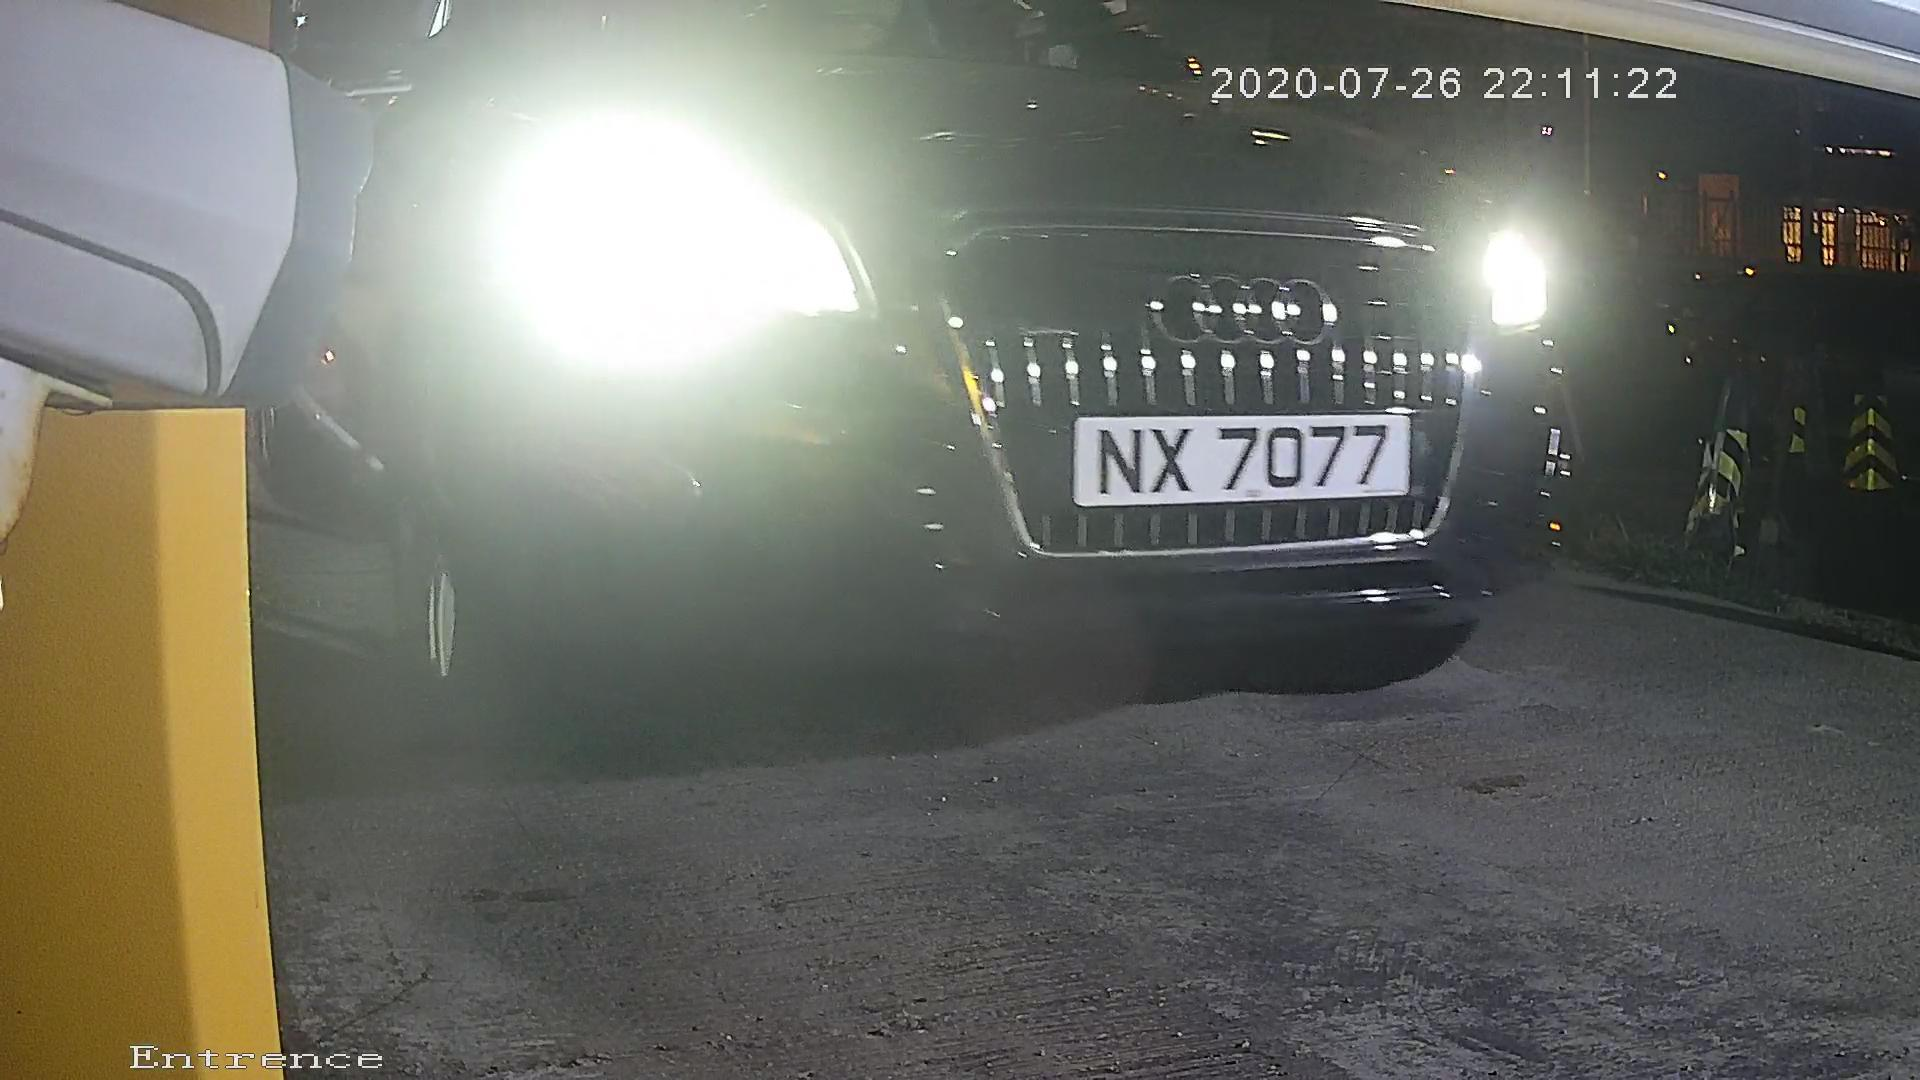Car: (69, 58, 1749, 767)
License Plate: (1046, 391, 1432, 516)
